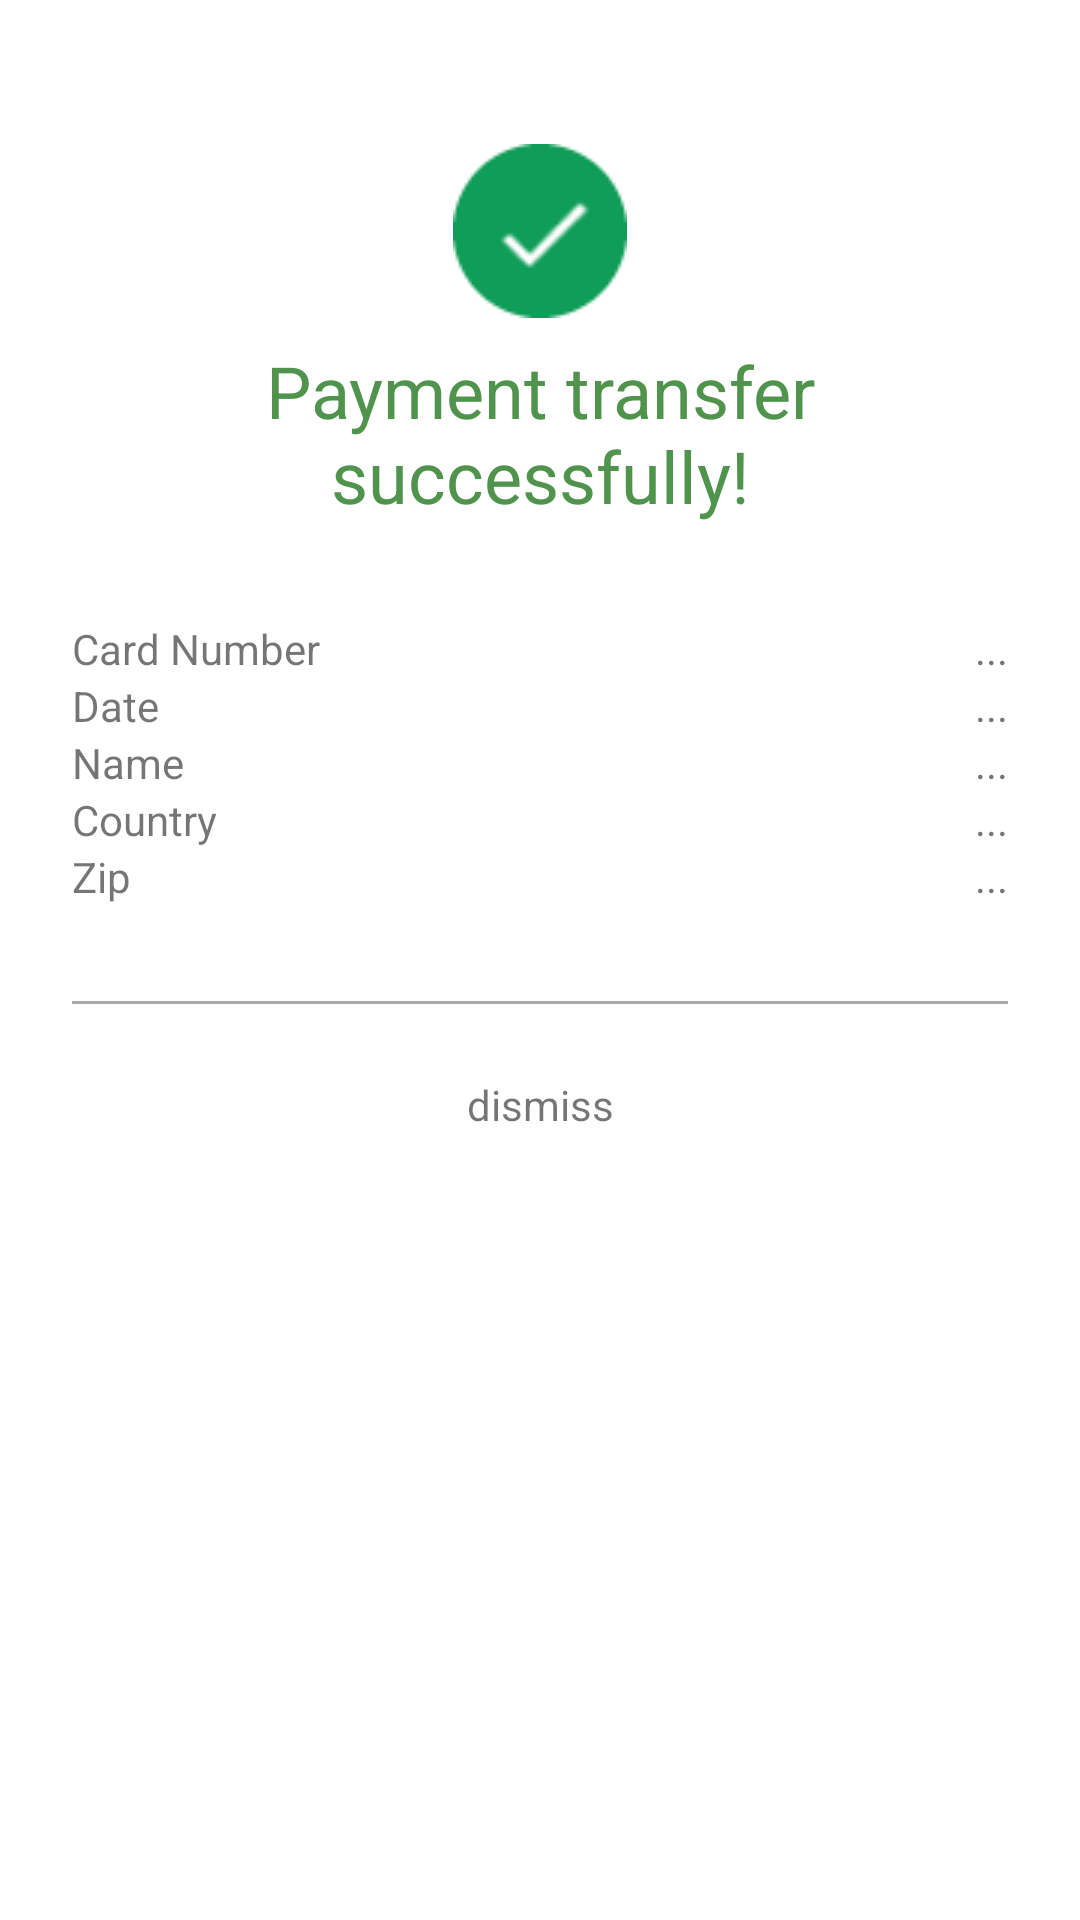

Named icons in this screenshot (1080 × 1920) and their centers, point (x, y):
circleimagesuccess: point (540, 231)
